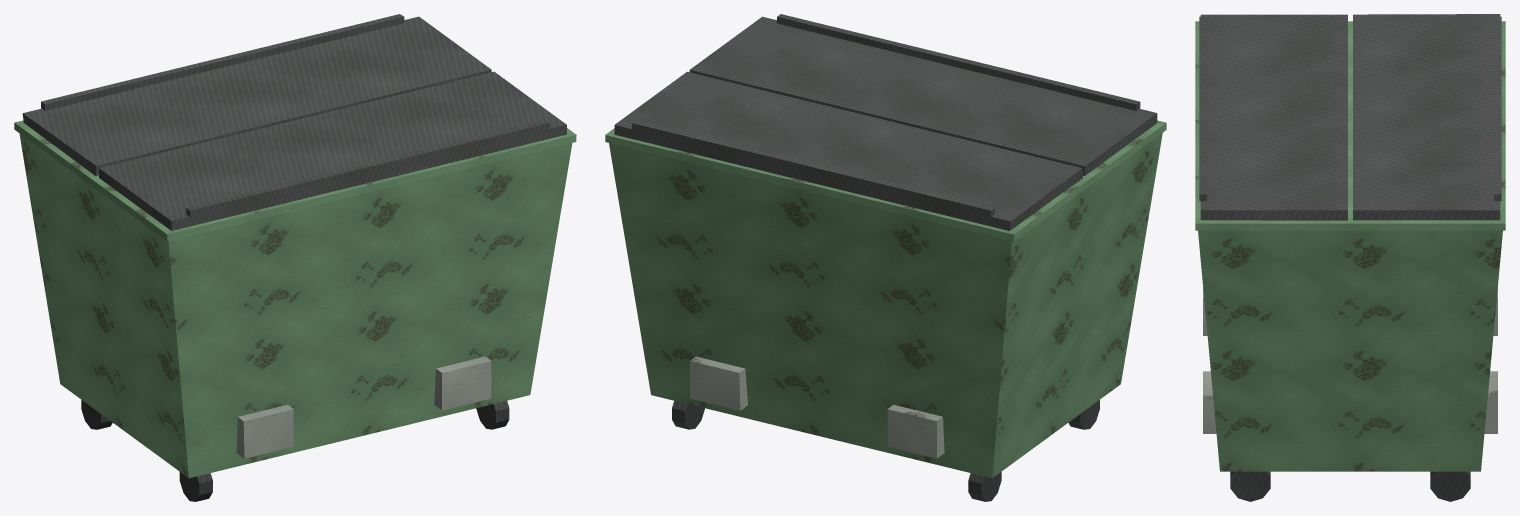
Rendered from dumpster_v1.glb.
3 views of the same model, side by side, from view 1: azimuth 30°, elevation 25°; view 2: azimuth 150°, elevation 25°; view 3: azimuth 270°, elevation 25° (orthographic).
Visible parts, largest first — view 1: Variant_dumpster_1; view 2: Variant_dumpster_1; view 3: Variant_dumpster_1.
Boxes of the visible parts, bbox=[...] form: Variant_dumpster_1: bbox=[14, 14, 576, 501]; Variant_dumpster_1: bbox=[605, 14, 1166, 501]; Variant_dumpster_1: bbox=[1195, 14, 1505, 501].
Bounding box in the file's own units: 1.82 × 1.34 × 1.18.
Materials: 4 (4 with a texture image).
